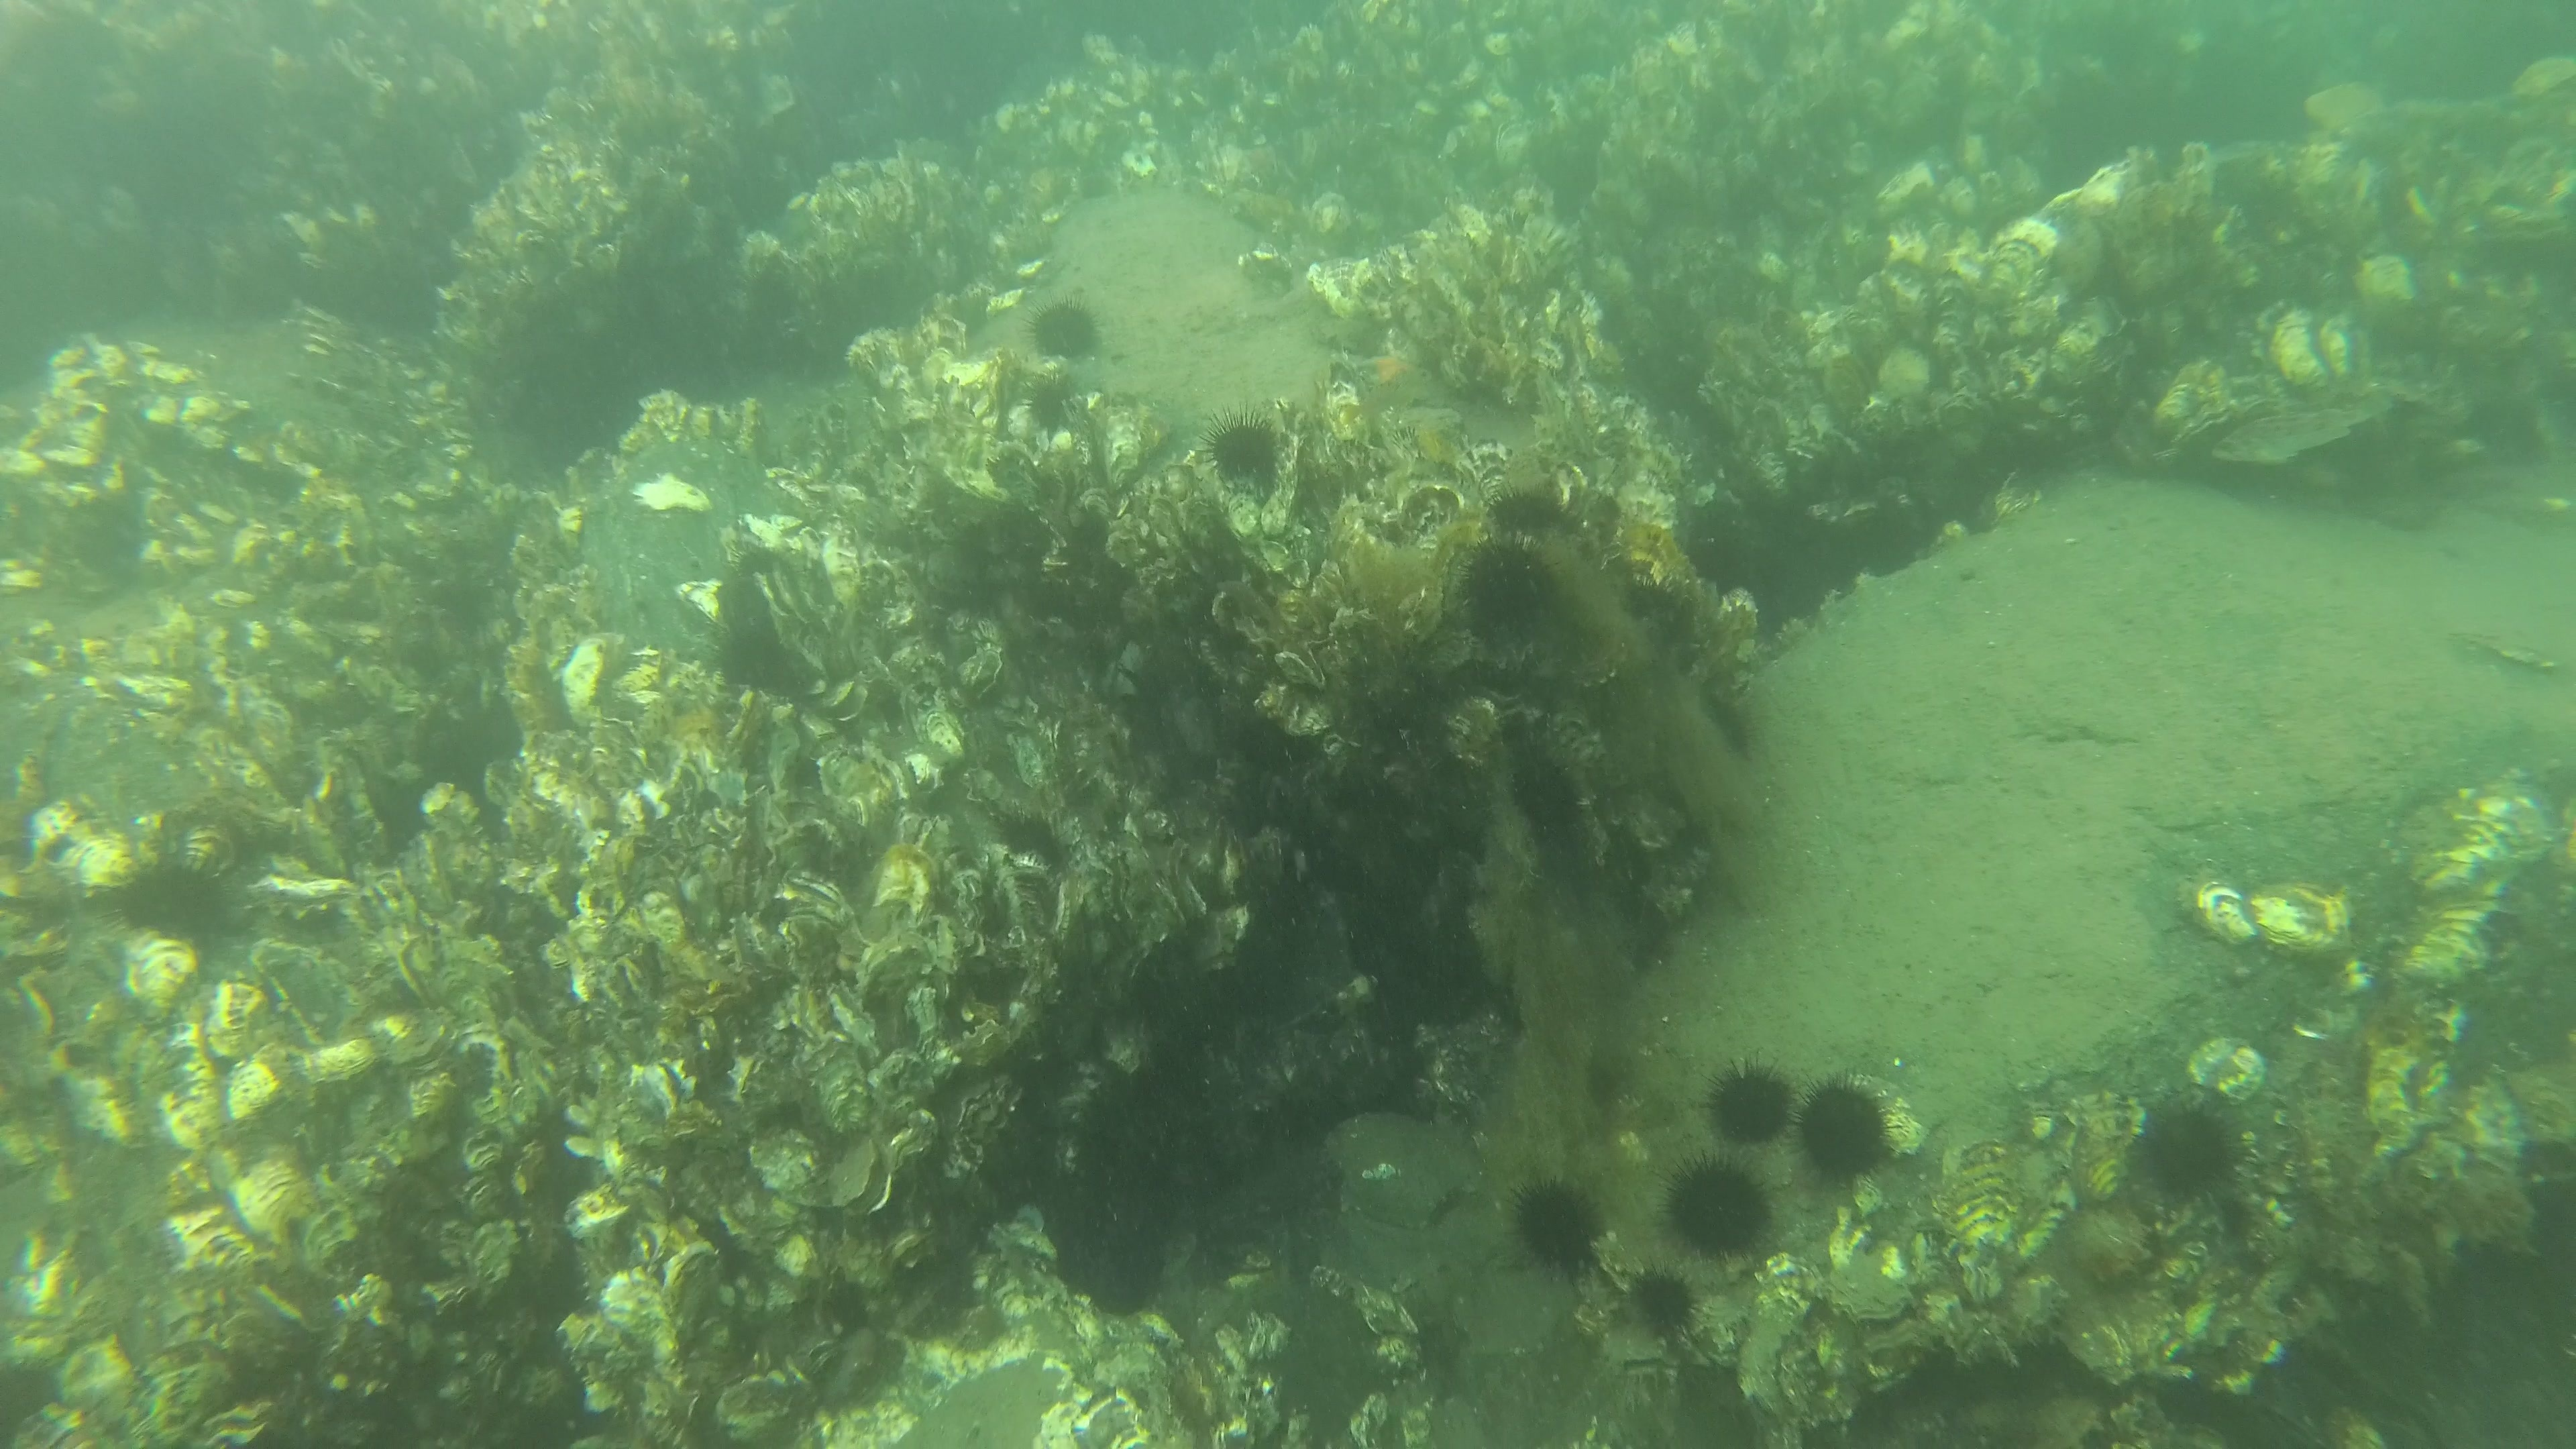echinus: (2123, 1090, 2259, 1221), (1660, 1143, 1787, 1263), (1445, 524, 1571, 644), (1796, 1058, 1904, 1171), (1506, 1161, 1610, 1272), (1697, 1047, 1805, 1150), (1198, 403, 1290, 495), (996, 366, 1088, 458), (1477, 478, 1583, 547), (1023, 288, 1111, 368), (1633, 1263, 1709, 1341)
starfish: (1341, 331, 1445, 412)
